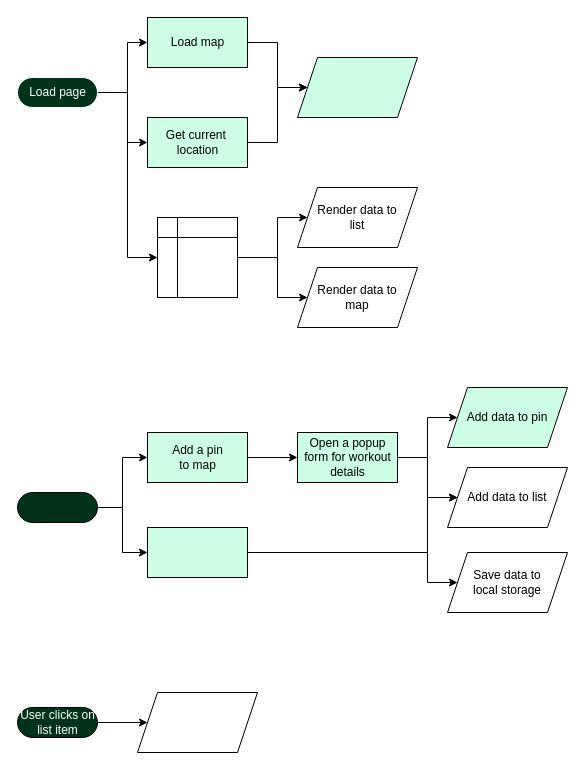
The diagram is 585 pixels wide and 770 high, and some of its shapes have lost their labels. Each missing label, with the box of its shape:
Get location details through API call: (146, 526, 248, 578)
Load data from local storage: (156, 216, 238, 298)
Pan map to current location: (296, 56, 418, 118)
Pan map to location: (136, 692, 258, 752)
User clicks on map: (16, 492, 98, 522)
